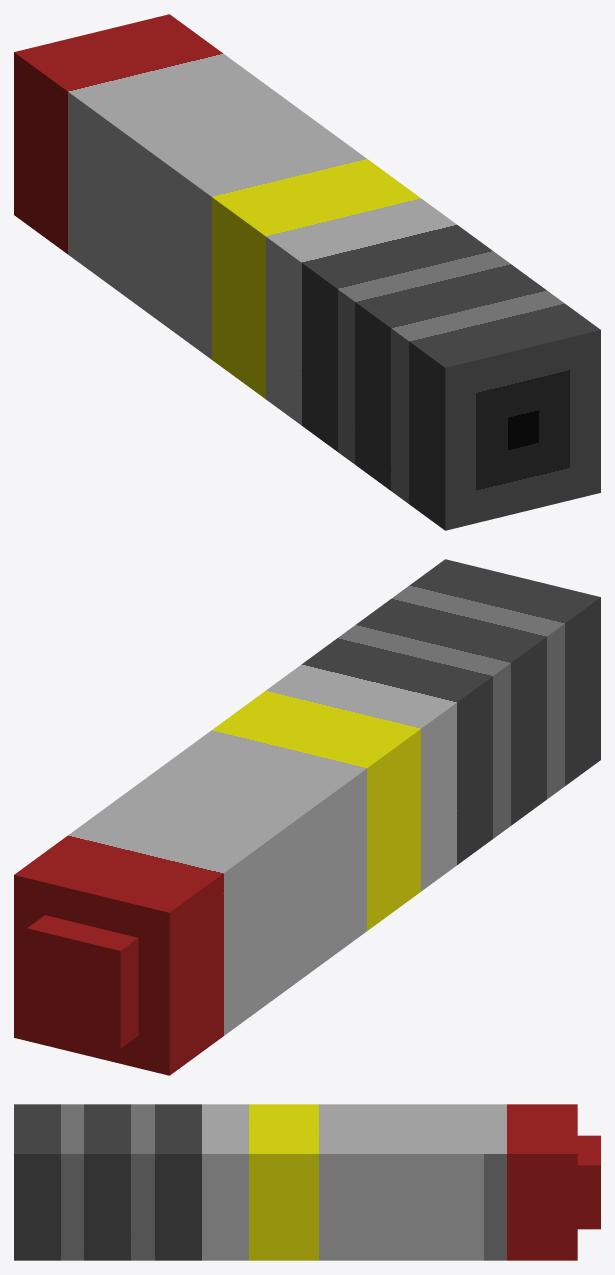
The model's file is missile.fbx.
The picture shows the model from 3 angles, top to bottom: view 1: azimuth 30°, elevation 25°; view 2: azimuth 150°, elevation 25°; view 3: azimuth 270°, elevation 25°; orthographic projection. The views are drawn at different scales.
Visible parts, largest first — view 1: base; view 2: base, head; view 3: base, head.
Part boxes in pixels (x1,y1,x2,y2): base: [14, 14, 600, 530]; base: [14, 559, 600, 1075]; head: [27, 915, 138, 1048]; base: [14, 1104, 577, 1260]; head: [577, 1135, 600, 1229].
Bounding box in the file's own units: 62.5 × 62.5 × 312.
Materials: 1 (1 with a texture image).
